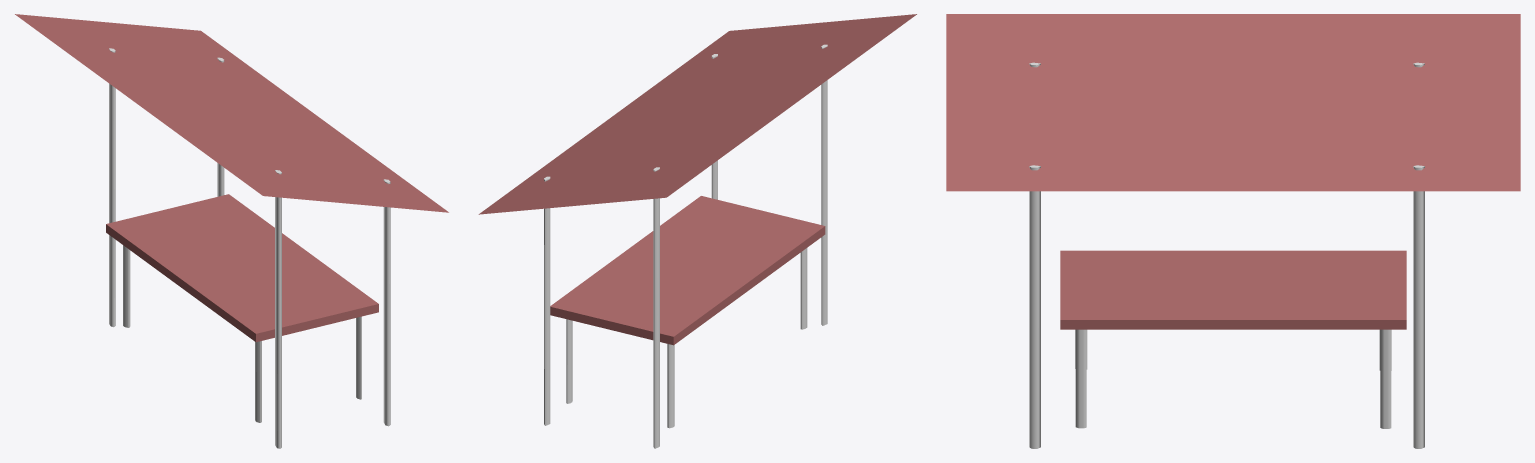
File: shop.fbx
The picture shows the model from 3 angles, left to right: view 1: azimuth 30°, elevation 25°; view 2: azimuth 150°, elevation 25°; view 3: azimuth 270°, elevation 25°; orthographic projection. The views are drawn at different scales.
Parts seen in each view (by area): view 1: polySurface1; view 2: polySurface1; view 3: polySurface1.
Boxes of the visible parts, x1,y1,x2,y2 form: polySurface1: (15,14,448,448); polySurface1: (478,14,916,448); polySurface1: (946,14,1520,448).
Size of the model in its own units: 0.8671 by 1.31 by 2.
